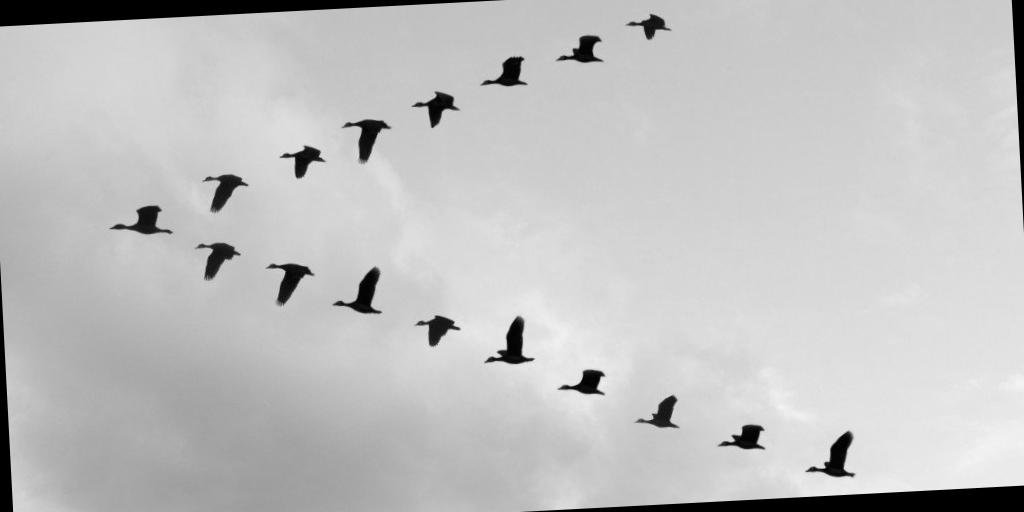bird: (97, 190, 181, 248), (795, 417, 864, 485), (324, 256, 393, 322), (477, 307, 539, 374), (335, 108, 399, 172), (704, 408, 782, 460), (270, 122, 329, 190), (190, 160, 258, 218), (258, 252, 318, 314), (471, 44, 536, 100), (185, 230, 250, 284), (404, 302, 466, 354), (548, 24, 608, 76), (553, 359, 614, 409), (628, 386, 686, 438), (409, 80, 464, 131), (611, 4, 679, 44)
